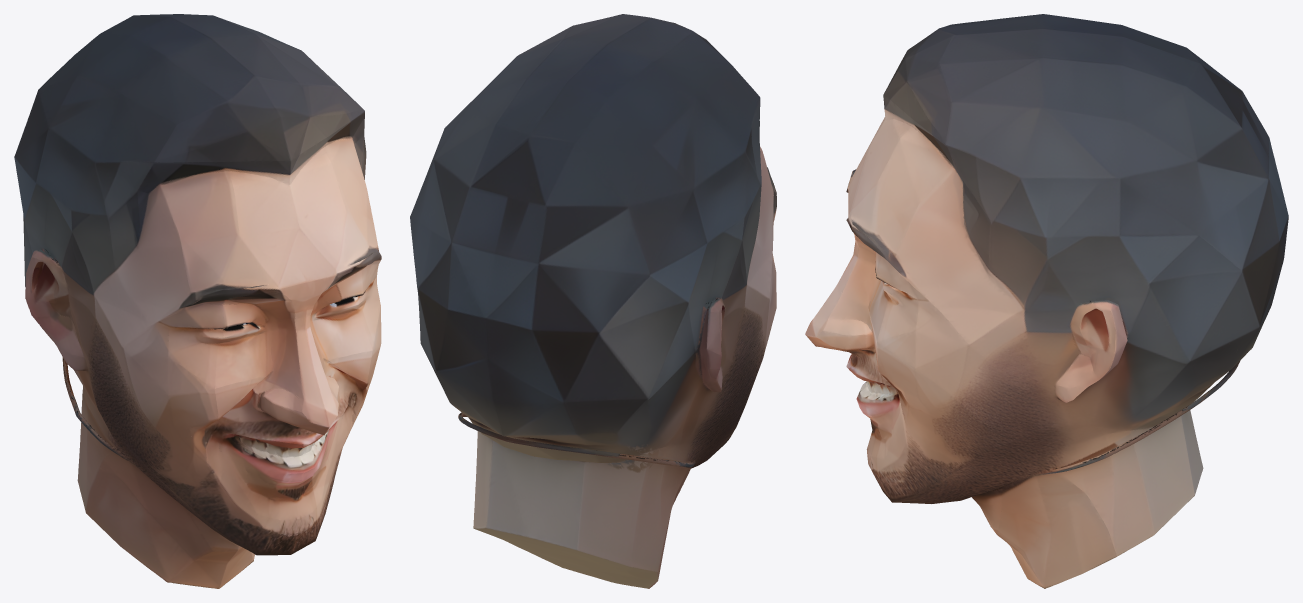
The model's file is WilsonFloatingHead.glb.
3 views of the same model, side by side, from view 1: azimuth 30°, elevation 25°; view 2: azimuth 150°, elevation 25°; view 3: azimuth 270°, elevation 25° (orthographic).
Parts seen in each view (by area): view 1: model; view 2: model; view 3: model.
Part boxes in pixels (bbox=[...]): model: bbox=[14, 14, 381, 588]; model: bbox=[410, 14, 776, 588]; model: bbox=[805, 14, 1288, 588].
Size of the model in its own units: 1.1 by 1.9 by 1.51.
Materials: 1 (1 with a texture image).
